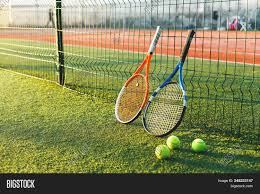tennis_ball: (154, 142, 170, 160), (166, 135, 180, 150), (191, 138, 205, 153)
